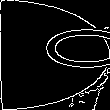O_W: (4, 34, 106, 76)
